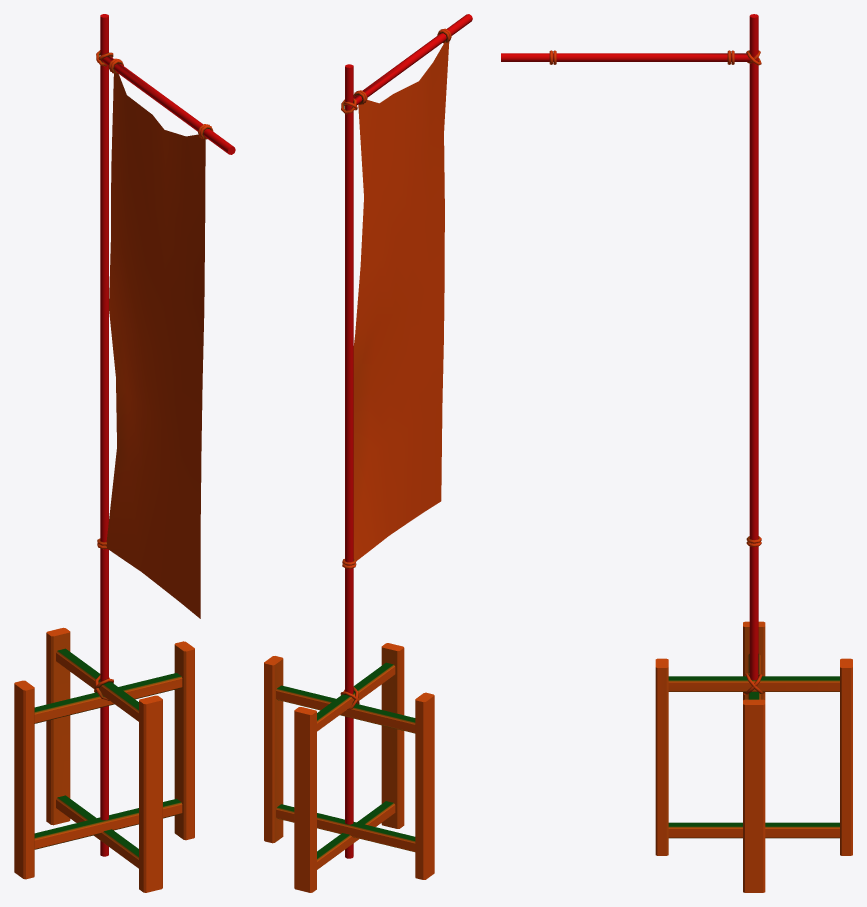
File: KB3D_GAE_Flag_A.glb
The picture shows the model from 3 angles, left to right: view 1: azimuth 30°, elevation 25°; view 2: azimuth 150°, elevation 25°; view 3: azimuth 270°, elevation 25°; orthographic projection. The views are drawn at different scales.
Parts seen in each view (by area): view 1: L0; view 2: L0; view 3: L0.
Boxes of the visible parts, x1=… form: L0: x1=14, y1=14, x2=235, y2=892; L0: x1=264, y1=14, x2=472, y2=892; L0: x1=501, y1=14, x2=852, y2=892.
Size of the model in its own units: 1.07 by 5 by 1.91.
